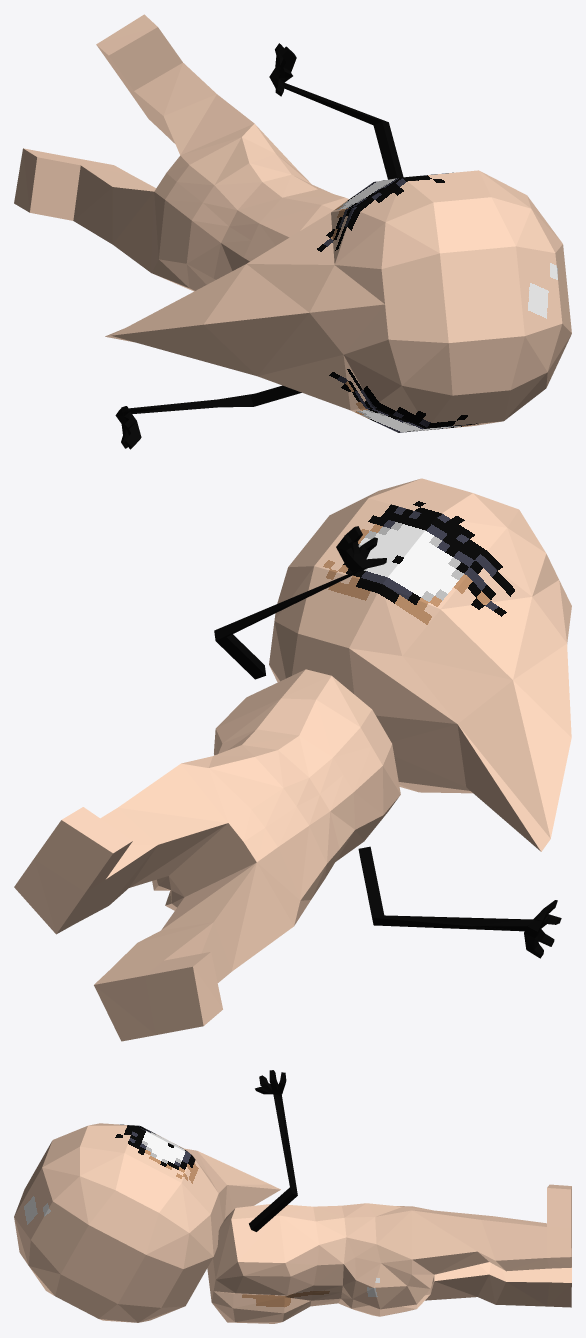
File: impKing_hurt.obj
3 renders of one model, top to bottom at view 1: azimuth 30°, elevation 25°; view 2: azimuth 150°, elevation 25°; view 3: azimuth 270°, elevation 25°, orthographic. The views are drawn at different scales.
Visible parts, largest first — view 1: Cube.018; view 2: Cube.018; view 3: Cube.018.
Part boxes in pixels (x1,y1,x2,y2): Cube.018: (14,14,571,449); Cube.018: (14,478,571,1041); Cube.018: (14,1070,571,1323).
Size of the model in its own units: 3.86 by 3.92 by 7.62.
Materials: 1 (1 with a texture image).
